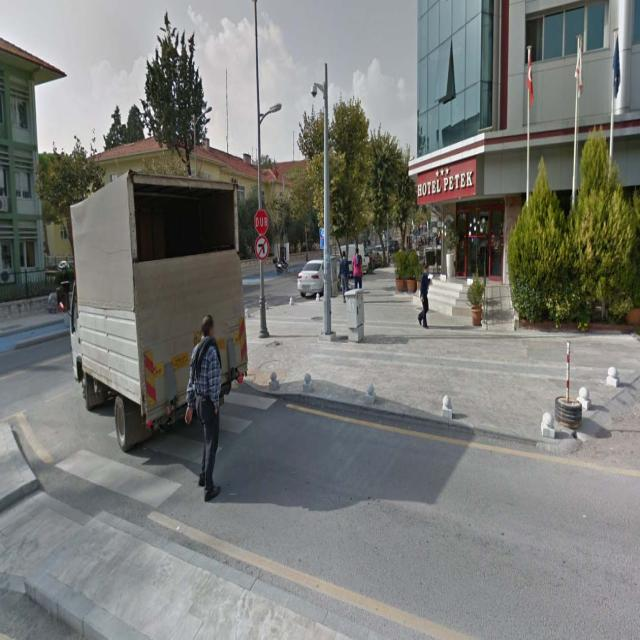dur: (254, 210, 268, 234)
soladonulmez: (255, 235, 269, 261)
